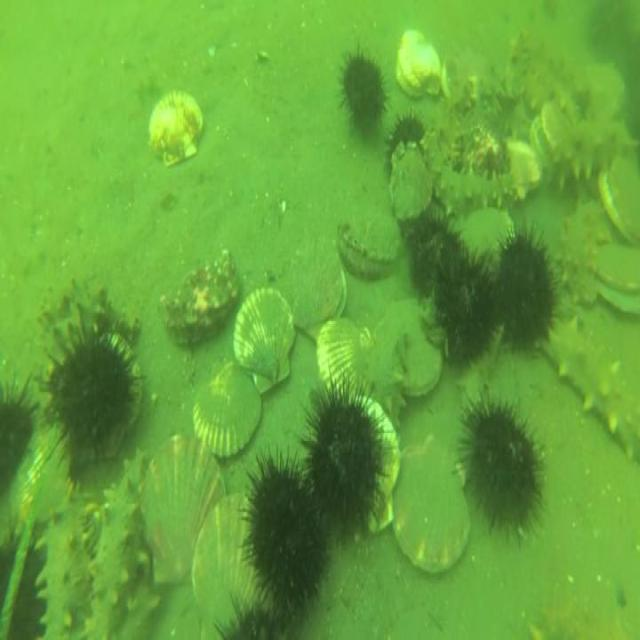echinus: (460, 394, 548, 544), (45, 314, 136, 458), (242, 450, 326, 606), (306, 379, 382, 534), (496, 226, 556, 351), (434, 248, 498, 365), (0, 369, 37, 504), (336, 44, 390, 133), (408, 220, 460, 304), (217, 596, 294, 640), (386, 109, 428, 152)
holothurian: (545, 314, 638, 462), (81, 456, 144, 640), (35, 493, 93, 640), (420, 130, 505, 218), (518, 28, 585, 124), (543, 126, 635, 194), (36, 280, 127, 335), (554, 207, 598, 307), (378, 326, 409, 425), (457, 352, 496, 430)
scallop: (142, 425, 228, 591), (394, 428, 476, 578), (192, 480, 258, 640), (371, 295, 445, 400), (232, 282, 300, 394), (192, 357, 266, 458), (287, 248, 350, 341), (316, 312, 376, 409), (100, 329, 142, 463), (144, 85, 208, 171), (365, 392, 402, 540), (338, 201, 402, 281), (392, 25, 444, 103), (589, 243, 640, 320), (597, 154, 640, 244), (389, 142, 434, 226), (580, 58, 630, 124), (453, 204, 515, 253), (506, 136, 540, 205), (529, 93, 557, 174)
